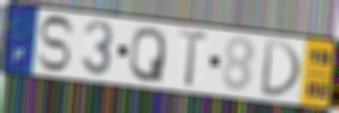3: (80, 19, 115, 78)
8: (221, 35, 259, 96)
D: (258, 37, 303, 100)
Q: (127, 25, 168, 84)
S: (35, 14, 76, 73)
T: (176, 28, 211, 89)
